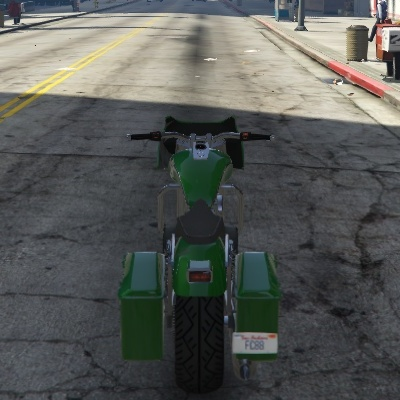off: (183, 251, 216, 290)
